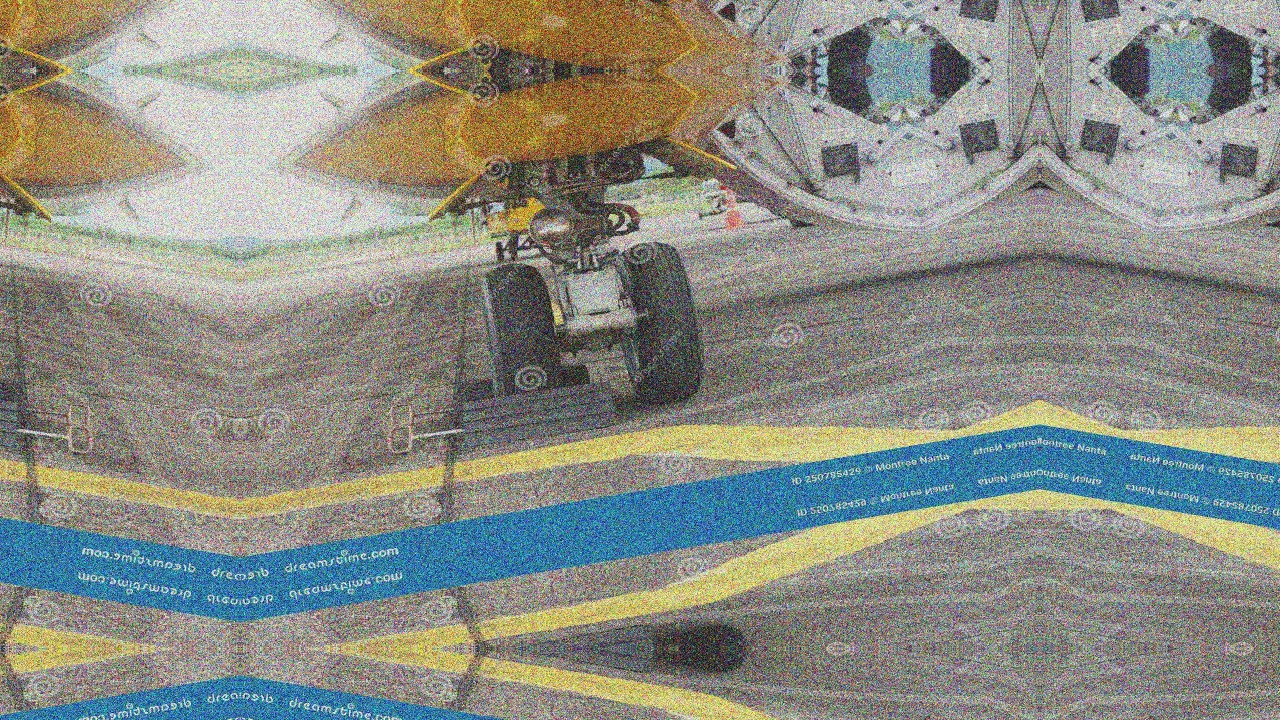chock: (457, 379, 620, 449), (449, 360, 593, 406), (498, 625, 661, 649), (498, 649, 661, 673), (0, 379, 23, 449), (0, 360, 31, 406)
wheel: (604, 237, 709, 406), (475, 257, 567, 397)
